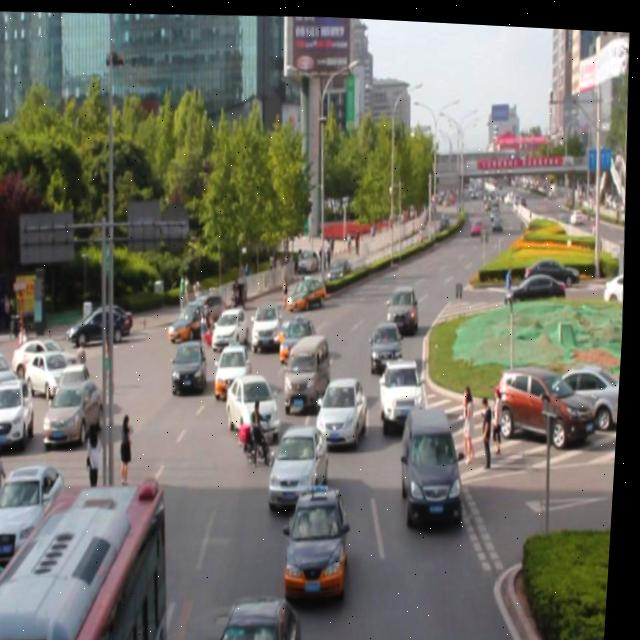car: (401, 397, 468, 517), (288, 486, 356, 596), (272, 419, 334, 502), (220, 590, 308, 640), (318, 372, 371, 443), (229, 368, 284, 433), (380, 350, 428, 421), (286, 303, 328, 357), (218, 341, 259, 396), (253, 293, 291, 351), (173, 336, 212, 390), (370, 315, 408, 368), (388, 277, 423, 330), (213, 301, 252, 347), (295, 264, 338, 305), (319, 636, 388, 640)
truck: (287, 330, 333, 394)
van: (0, 482, 174, 640)
